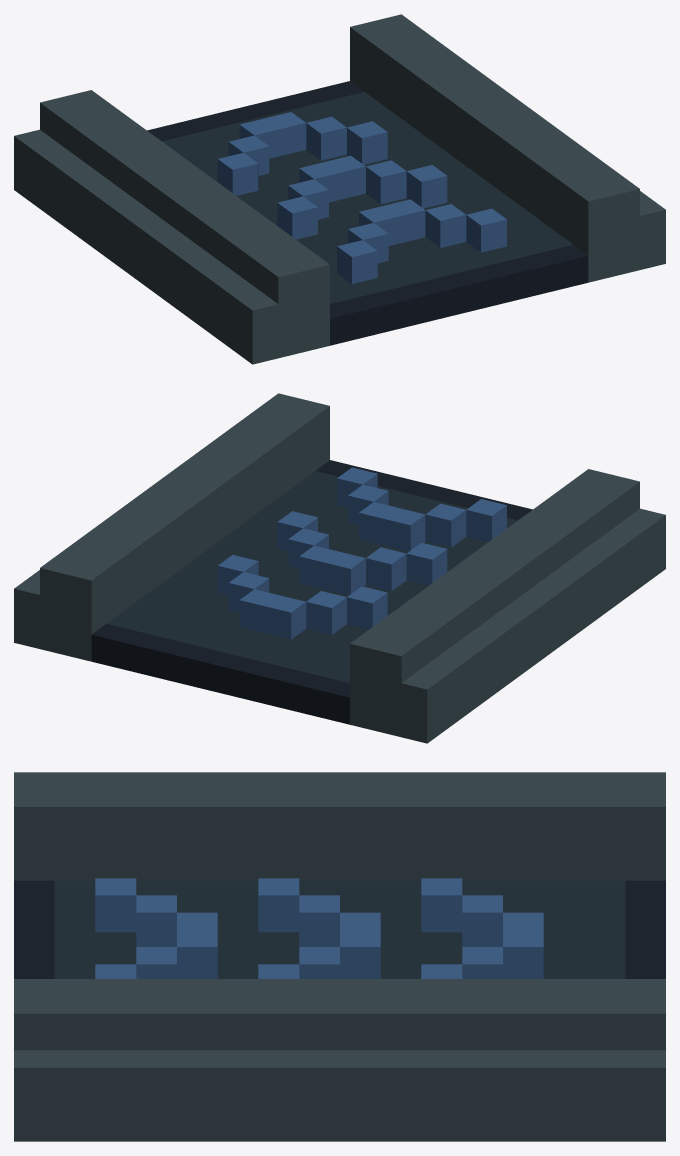
File: BuildingConveyor.obj
The picture shows the model from 3 angles, top to bottom: view 1: azimuth 30°, elevation 25°; view 2: azimuth 150°, elevation 25°; view 3: azimuth 270°, elevation 25°; orthographic projection. The views are drawn at different scales.
Size of the model in its own units: 1.6 by 0.3 by 1.6.
1 material, 1 textured.
